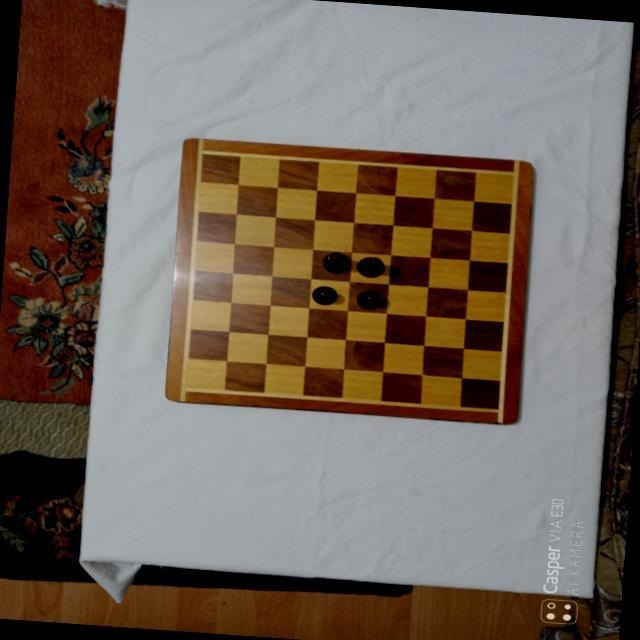black-bishop: (321, 250, 351, 274), (356, 254, 384, 277)
black-pawn: (354, 287, 381, 309), (311, 283, 337, 304)
